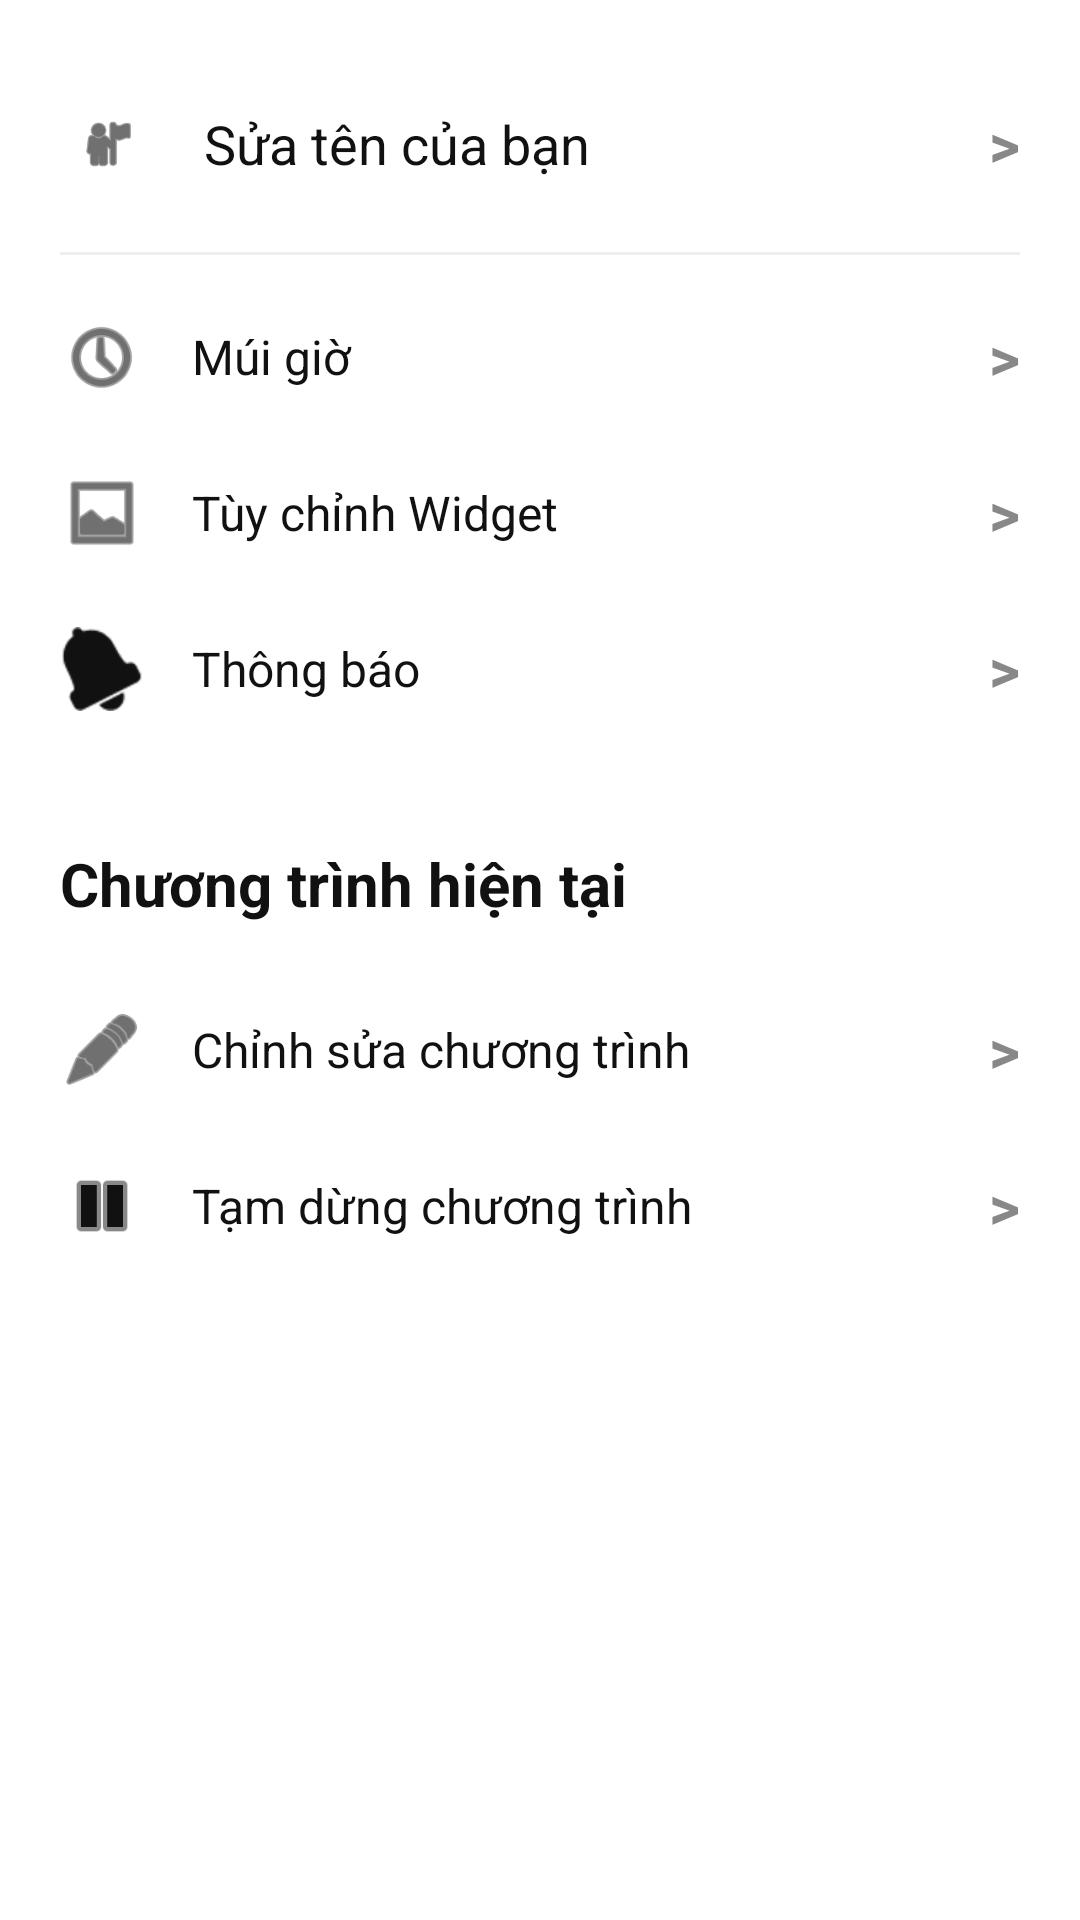

Named icons in this screenshot (1080*1920) and their centers, [x,y]:
edit: [101,1049]
gallery: [102,513]
pause: [102,1206]
popup reminder: [102,669]
recent history: [101,357]
